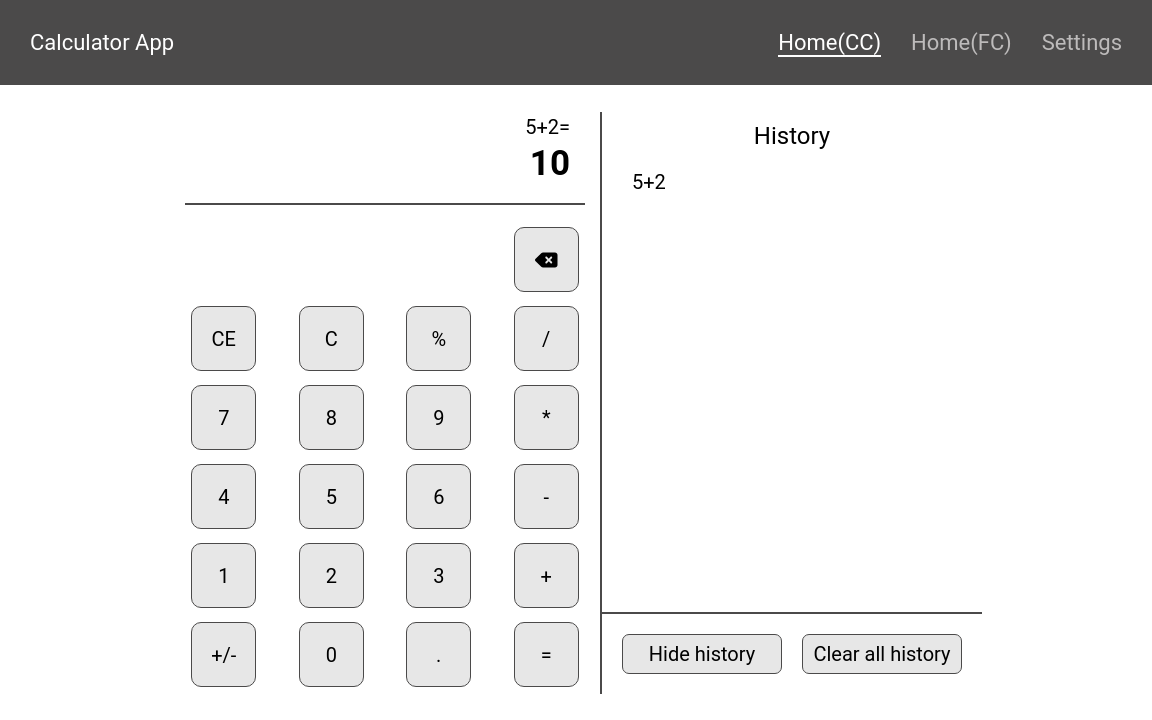
Test case: Home CC E2E › should perform substraction of two numbers
Click the text with test id "btn-" at (547, 497), box [514,464,579,529]
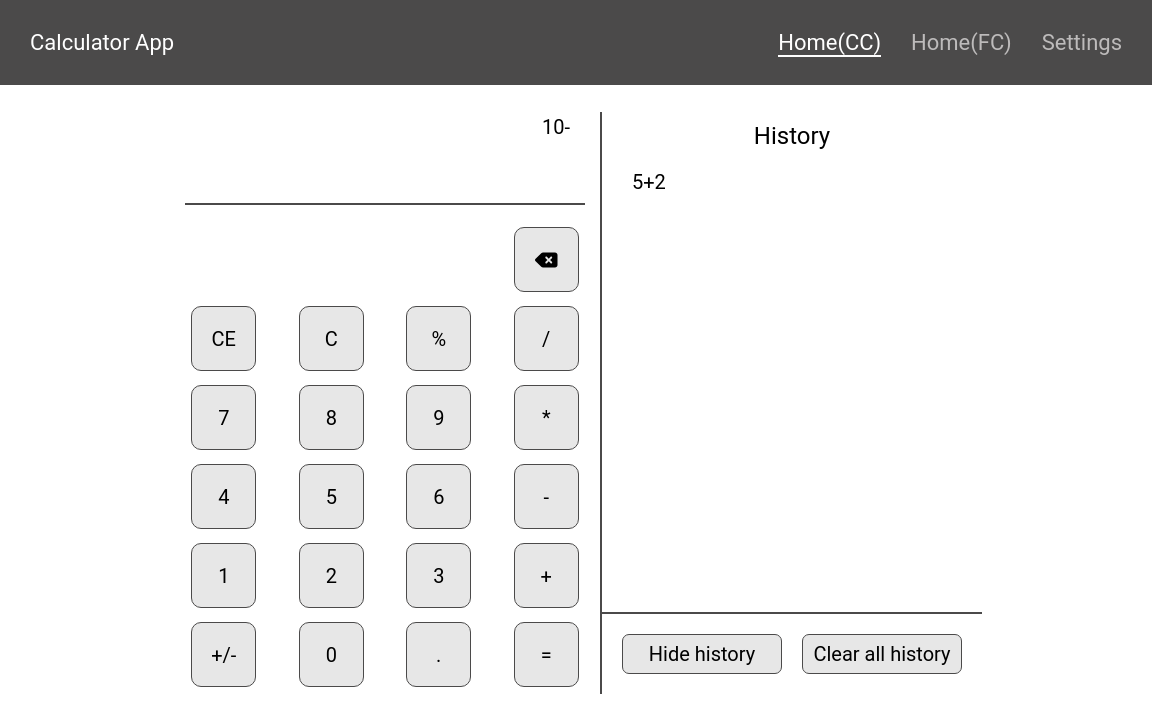
Click the text with test id "btn6" at (439, 497), box [406,464,471,529]
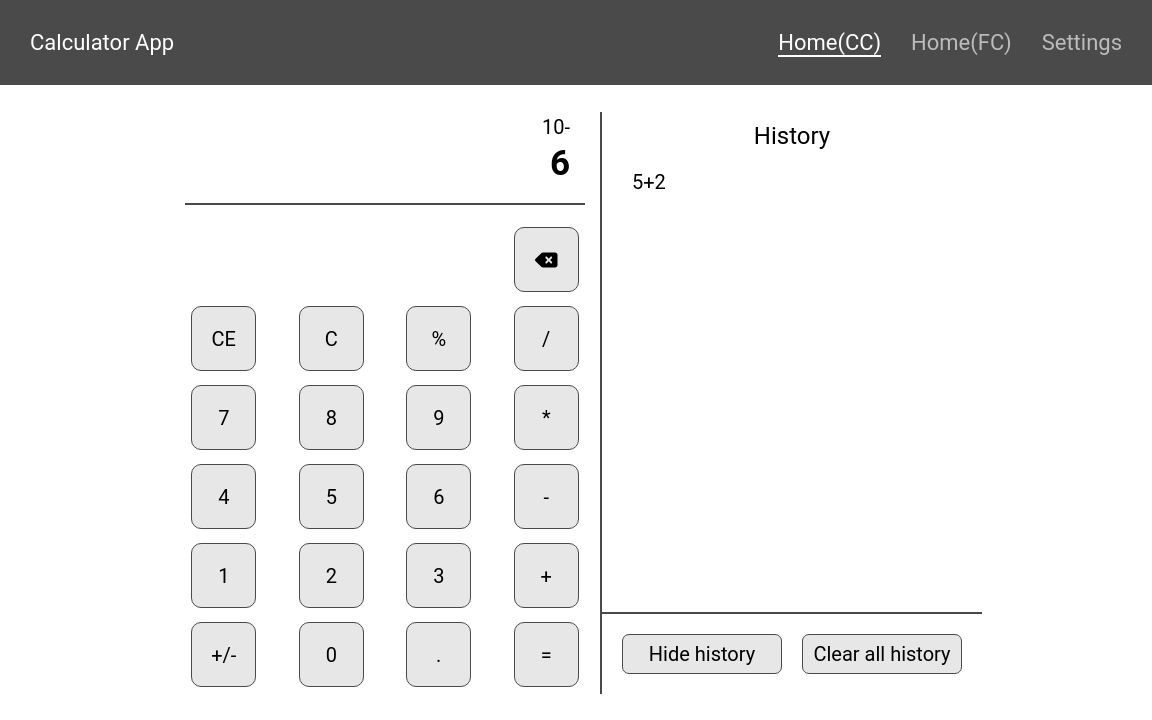
Click the text with test id "btn=" at (547, 655), box [514,622,579,687]
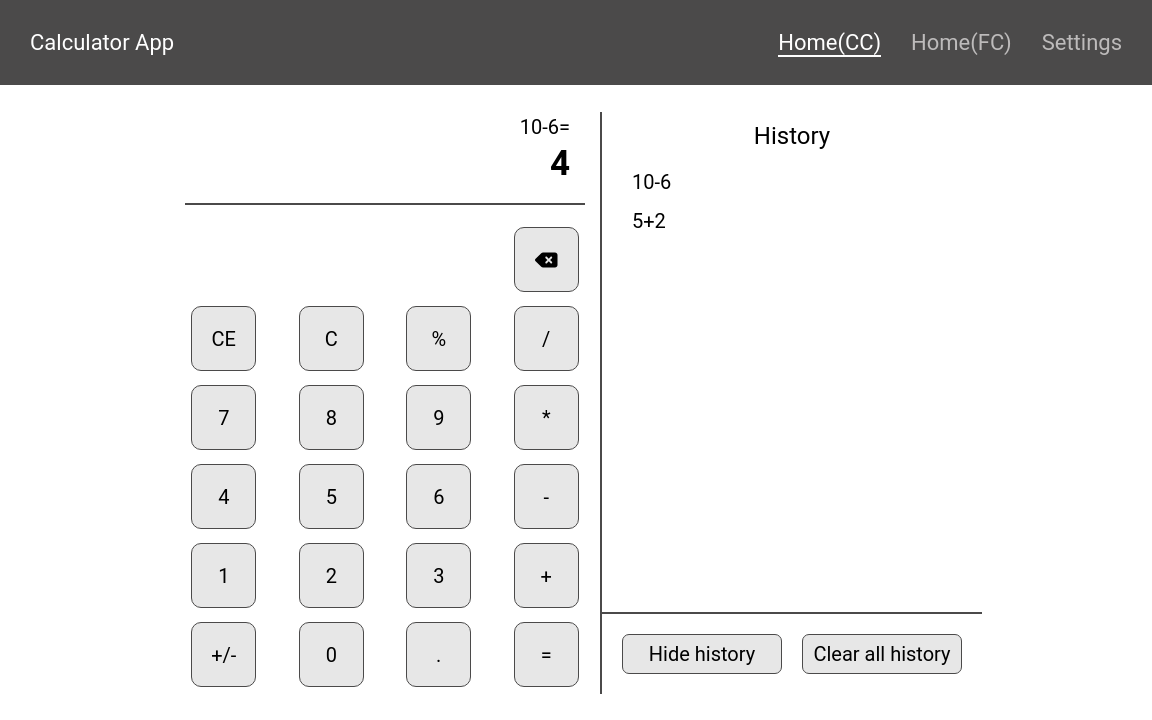
Expected: the text with test id "displayExpr" reads "10-6=", [520,115,570,138]
Expected: the text with test id "displayInput" reads "4", [550,143,570,184]
